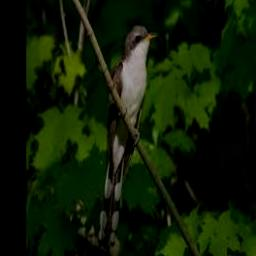Cuckoo: (97, 25, 157, 247)
